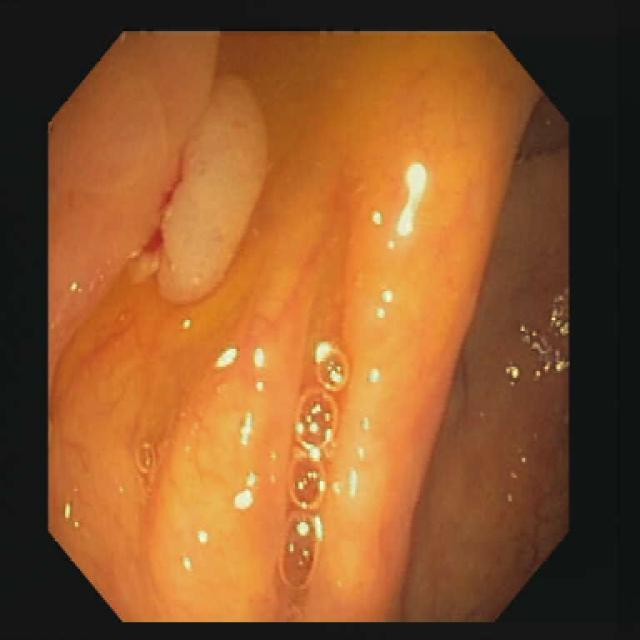tumor: (158, 78, 267, 298)
